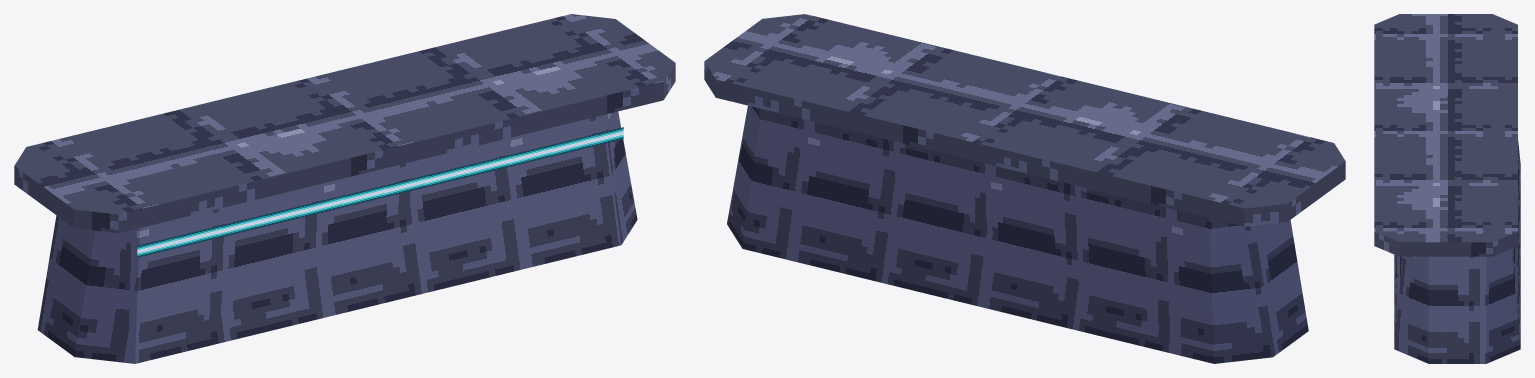
File: cyroom.bar.glb
3 renders of one model, left to right at view 1: azimuth 30°, elevation 25°; view 2: azimuth 150°, elevation 25°; view 3: azimuth 270°, elevation 25°, orthographic. The views are drawn at different scales.
Visible parts, largest first — view 1: kit_body, kit_card_details; view 2: kit_body; view 3: kit_body.
Boxes of the visible parts, x1,y1,x2,y2 form: kit_body: (14,14,675,363); kit_card_details: (137,127,623,257); kit_body: (704,14,1345,363); kit_body: (1374,14,1520,363).
Bounding box in the file's own units: 4.7 × 1.24 × 1.28.
Materials: 4 (4 with a texture image).
